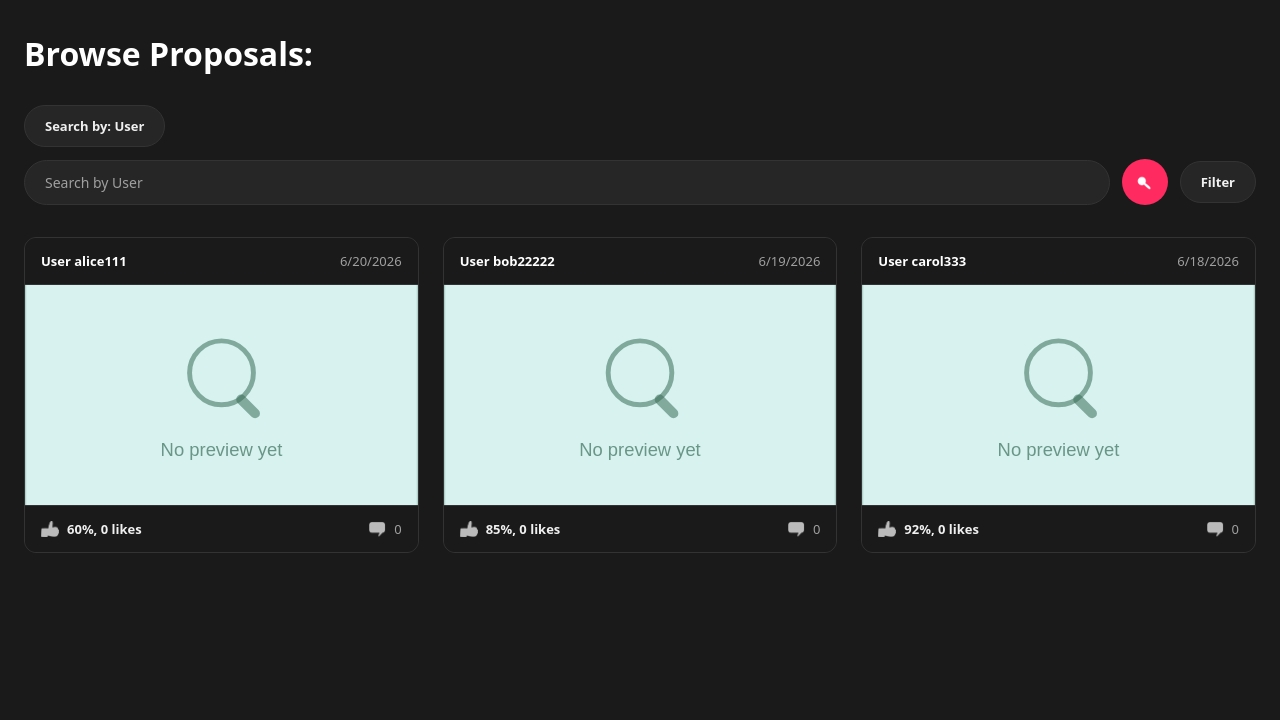
closes the search type menu when clicking outside it
The width and height of the screenshot is (1280, 720).
Expected: the text "User alice111" is shown, 41,252 -> 127,270
Click the button "Search by: User".
click(95, 126)  # box 24,105 -> 165,147
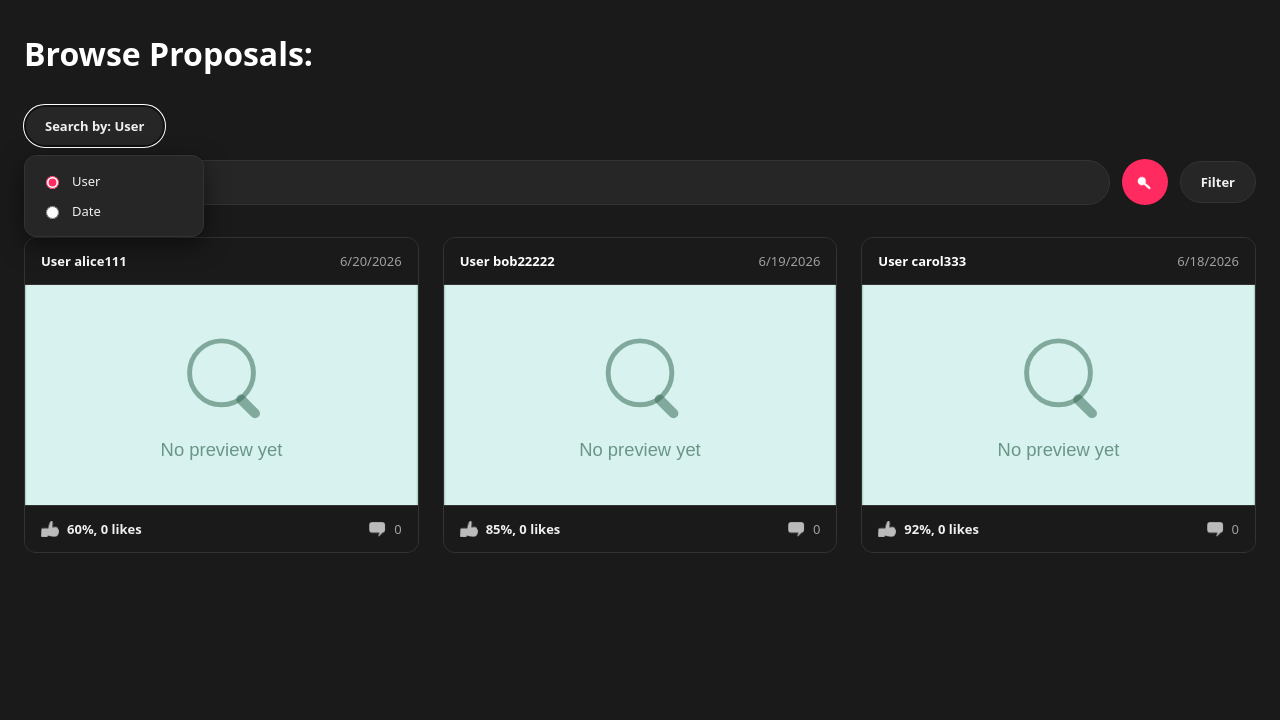
Expected: the radio button labelled "Date" is shown, 46,206 -> 59,219
Click the heading "Browse Proposals:".
click(168, 54)  # box 24,32 -> 313,75
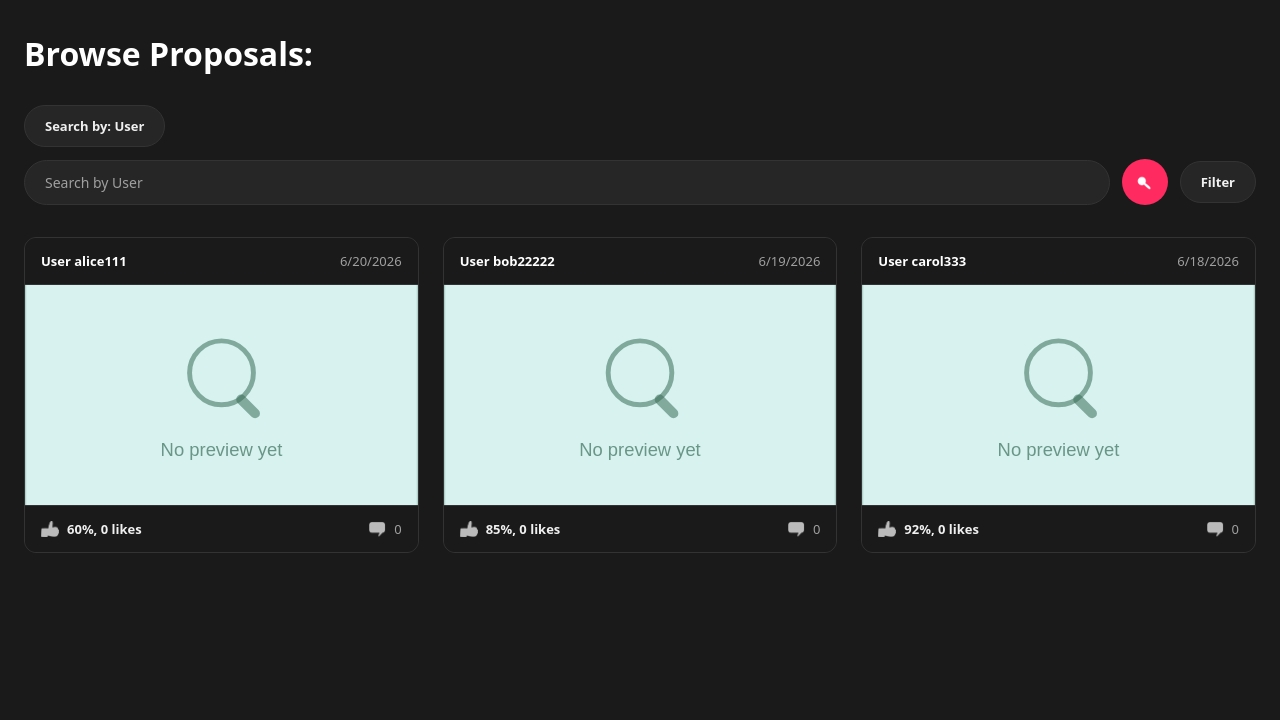
Expected: the label labelled "Date" is gone
